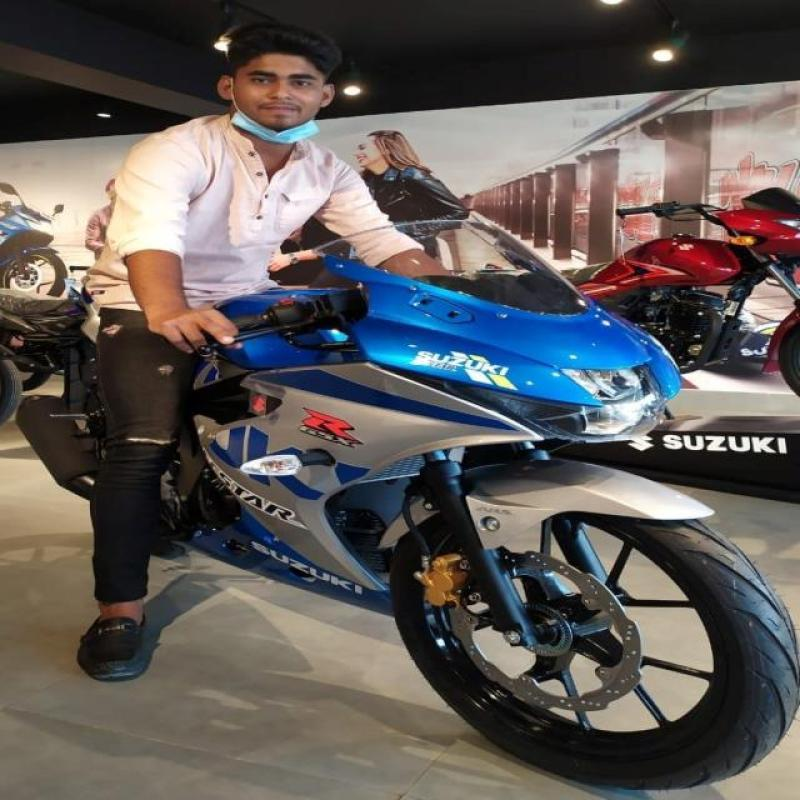nohelmet: (190, 25, 374, 140)
